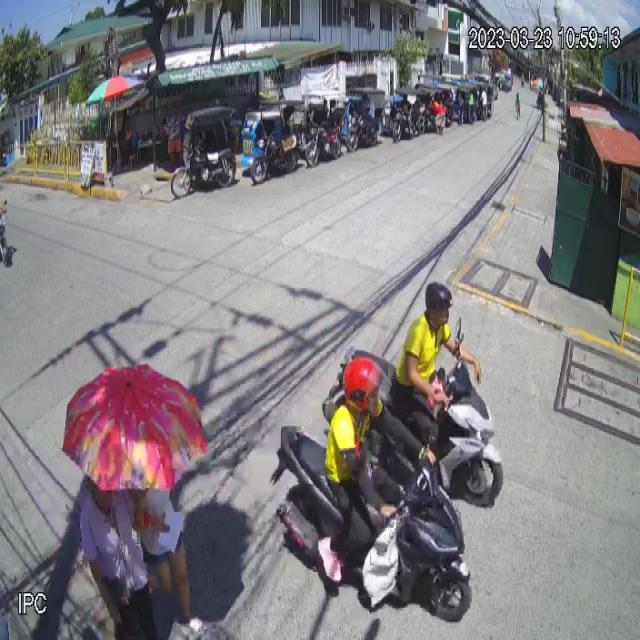Motorcycle: (270, 421, 474, 628)
